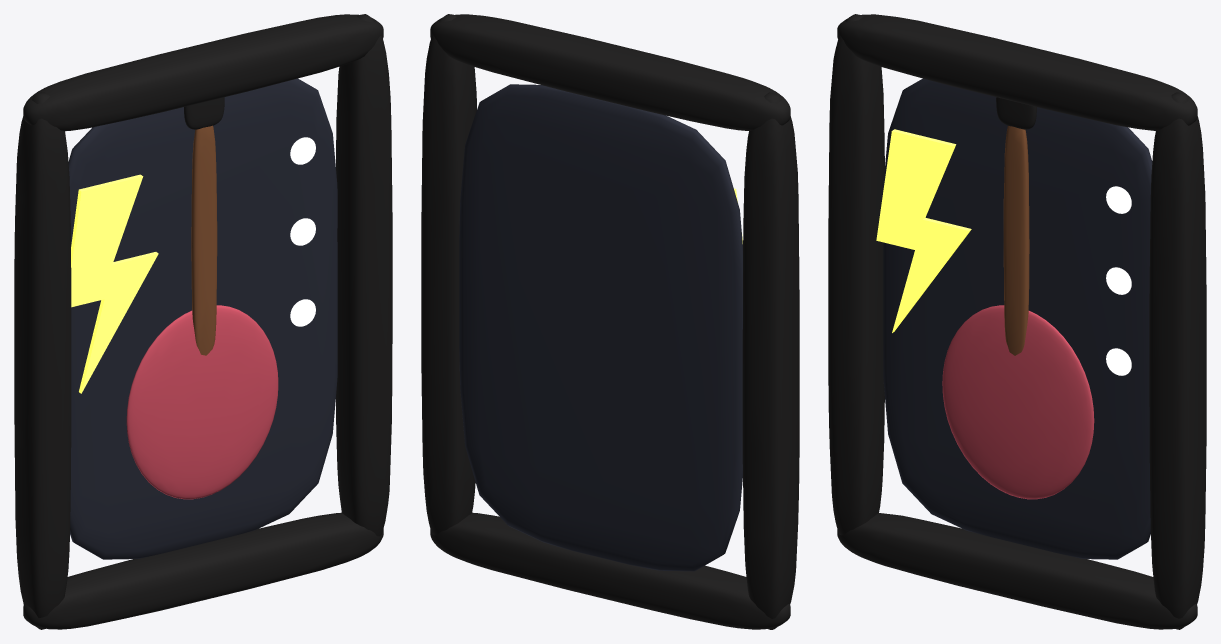
Rendered from deco_poster_rock.glb.
The picture shows the model from 3 angles, left to right: view 1: azimuth 30°, elevation 25°; view 2: azimuth 150°, elevation 25°; view 3: azimuth 330°, elevation 25°; orthographic projection.
Parts seen in each view (by area): view 1: lienzo.016, marco vertical.032, marco vertical.033, cuerpo guitarra afiche.001, marco horizontal.033, marco horizontal.032, rayo.001, mástil afiche.001, clavijero afiche.001, estrella rock 0.001, estrella rock 1.001, estrella rock 2.001; view 2: lienzo.016, marco vertical.032, marco vertical.033, marco horizontal.033, marco horizontal.032; view 3: lienzo.016, marco vertical.033, marco vertical.032, cuerpo guitarra afiche.001, marco horizontal.033, marco horizontal.032, rayo.001, mástil afiche.001, clavijero afiche.001, estrella rock 2.001, estrella rock 1.001, estrella rock 0.001.
Part boxes in pixels (x1=…): lienzo.016: x1=68, y1=78, x2=337, y2=559; marco vertical.032: x1=14, y1=92, x2=71, y2=629; marco vertical.033: x1=335, y1=14, x2=392, y2=536; cuerpo guitarra afiche.001: x1=126, y1=305, x2=278, y2=499; marco horizontal.033: x1=23, y1=14, x2=383, y2=131; marco horizontal.032: x1=23, y1=512, x2=383, y2=629; rayo.001: x1=71, y1=174, x2=158, y2=393; mástil afiche.001: x1=191, y1=125, x2=217, y2=355; clavijero afiche.001: x1=184, y1=97, x2=224, y2=129; estrella rock 0.001: x1=290, y1=137, x2=315, y2=164; estrella rock 1.001: x1=290, y1=218, x2=315, y2=245; estrella rock 2.001: x1=290, y1=299, x2=315, y2=326; lienzo.016: x1=459, y1=84, x2=742, y2=571; marco vertical.032: x1=742, y1=92, x2=799, y2=629; marco vertical.033: x1=421, y1=14, x2=476, y2=535; marco horizontal.033: x1=430, y1=14, x2=790, y2=131; marco horizontal.032: x1=430, y1=512, x2=790, y2=629; lienzo.016: x1=883, y1=78, x2=1152, y2=559; marco vertical.033: x1=1149, y1=92, x2=1206, y2=629; marco vertical.032: x1=828, y1=14, x2=884, y2=535; cuerpo guitarra afiche.001: x1=942, y1=305, x2=1094, y2=499; marco horizontal.033: x1=837, y1=14, x2=1197, y2=130; marco horizontal.032: x1=837, y1=513, x2=1197, y2=629; rayo.001: x1=876, y1=129, x2=971, y2=332; mástil afiche.001: x1=1003, y1=126, x2=1029, y2=355; clavijero afiche.001: x1=996, y1=97, x2=1036, y2=129; estrella rock 2.001: x1=1106, y1=348, x2=1131, y2=375; estrella rock 1.001: x1=1106, y1=267, x2=1131, y2=294; estrella rock 0.001: x1=1106, y1=186, x2=1131, y2=213.
Bounding box in the file's own units: 0.4696 × 0.6697 × 0.0598.
